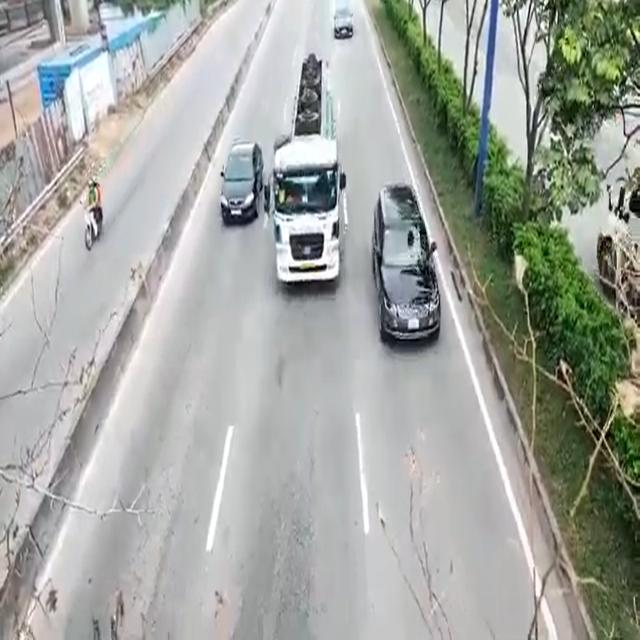car: (372, 186, 444, 351), (222, 139, 258, 227), (332, 5, 353, 40)
motor: (82, 204, 105, 253)
truck: (274, 66, 344, 290)
